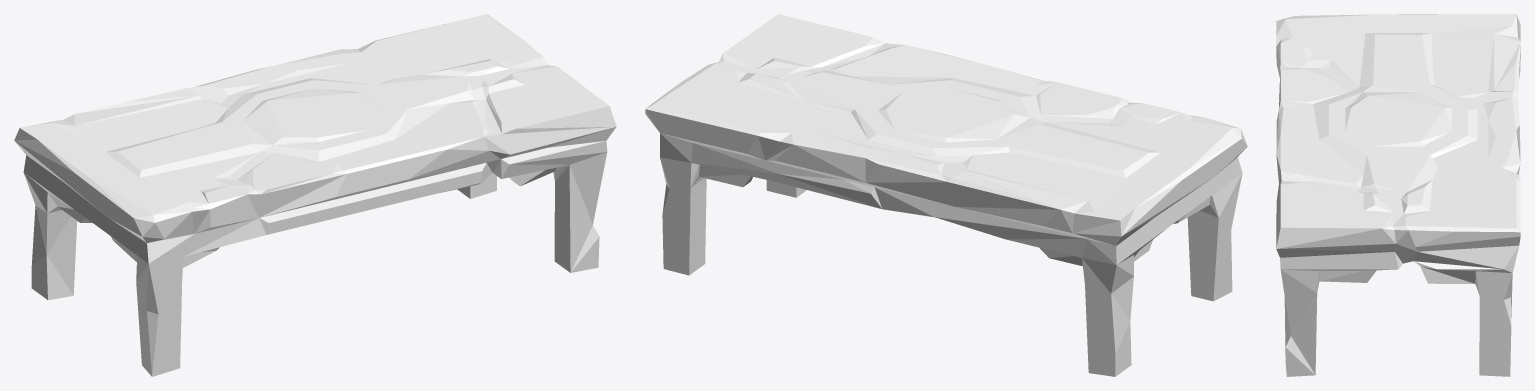
Rendered from Table.fbx.
3 renders of one model, left to right at view 1: azimuth 30°, elevation 25°; view 2: azimuth 150°, elevation 25°; view 3: azimuth 270°, elevation 25°, orthographic. The views are drawn at different scales.
Parts seen in each view (by area): view 1: Table; view 2: Table; view 3: Table.
Boxes of the visible parts, x1,y1,x2,y2 form: Table: (14, 14, 616, 376); Table: (645, 14, 1247, 376); Table: (1276, 14, 1520, 376).
Size of the model in its own units: 846 by 284 by 402.
Materials: 1 (1 with a texture image).
